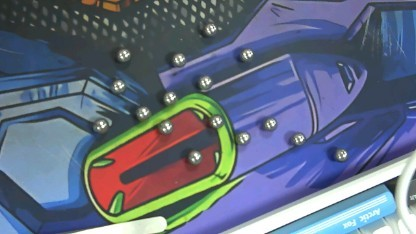ironball: (103, 72, 128, 94), (193, 73, 218, 92), (88, 113, 108, 134), (260, 112, 281, 131), (332, 145, 350, 166), (185, 146, 206, 163), (114, 47, 136, 63), (167, 50, 187, 67), (236, 47, 256, 62), (160, 88, 177, 105), (237, 128, 253, 146), (206, 113, 223, 129), (201, 23, 217, 38), (156, 119, 172, 134), (135, 104, 148, 122), (292, 131, 304, 144)
